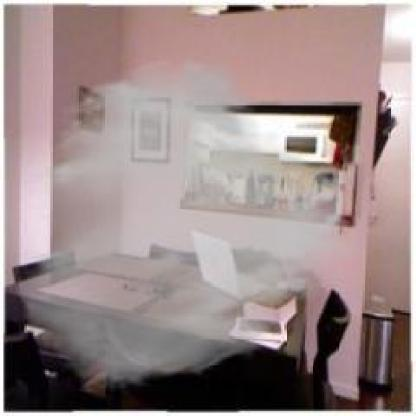Smoke: (15, 55, 367, 392)
